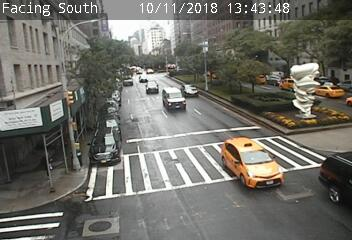car: (221, 136, 282, 190), (90, 127, 120, 165), (163, 87, 186, 110), (313, 85, 344, 98), (279, 78, 302, 91), (181, 84, 198, 98), (267, 75, 284, 86), (146, 81, 158, 93), (139, 75, 148, 83)
